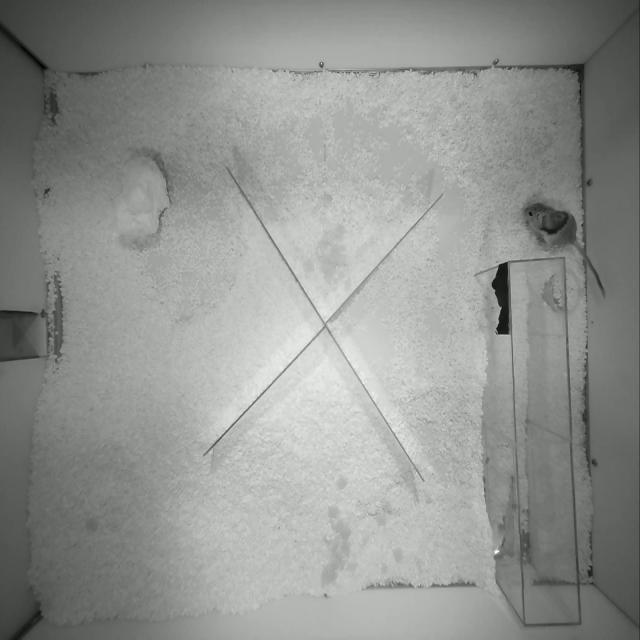adult_front: (523, 202, 605, 297)
